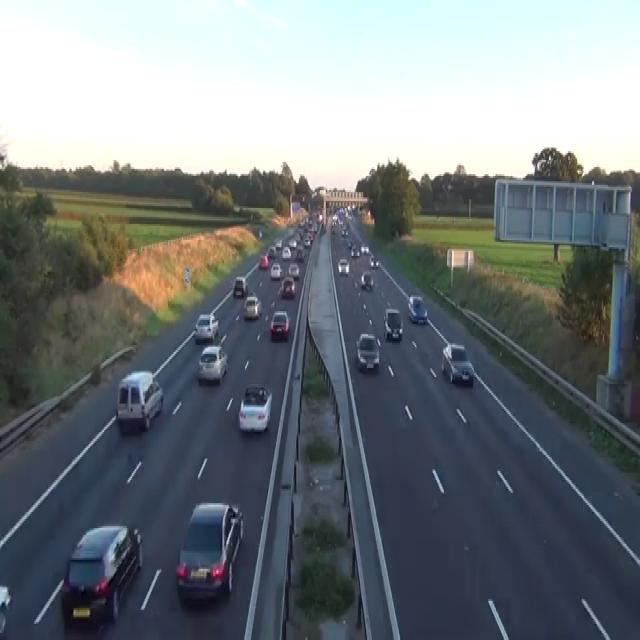Car: (61, 523, 143, 624), (175, 501, 243, 603), (115, 370, 163, 434), (238, 384, 272, 432), (441, 341, 475, 384), (198, 345, 228, 384), (355, 332, 380, 372), (61, 622, 111, 638), (194, 313, 219, 343), (383, 308, 403, 342), (270, 310, 290, 340), (407, 295, 427, 324), (0, 585, 11, 633), (243, 295, 261, 318), (278, 275, 295, 297), (233, 275, 246, 297), (360, 270, 373, 290), (0, 585, 11, 608), (337, 258, 349, 276), (270, 261, 282, 279), (288, 263, 300, 279), (0, 608, 6, 635), (369, 254, 379, 268), (281, 246, 291, 260), (350, 245, 360, 258), (259, 254, 268, 268), (312, 210, 322, 222), (296, 246, 304, 260), (268, 245, 276, 258), (288, 238, 297, 249), (360, 244, 369, 254), (233, 203, 241, 213), (275, 238, 282, 249), (341, 226, 348, 236), (304, 237, 311, 247), (348, 240, 355, 249), (330, 222, 335, 233), (317, 214, 323, 222), (258, 230, 262, 238)
